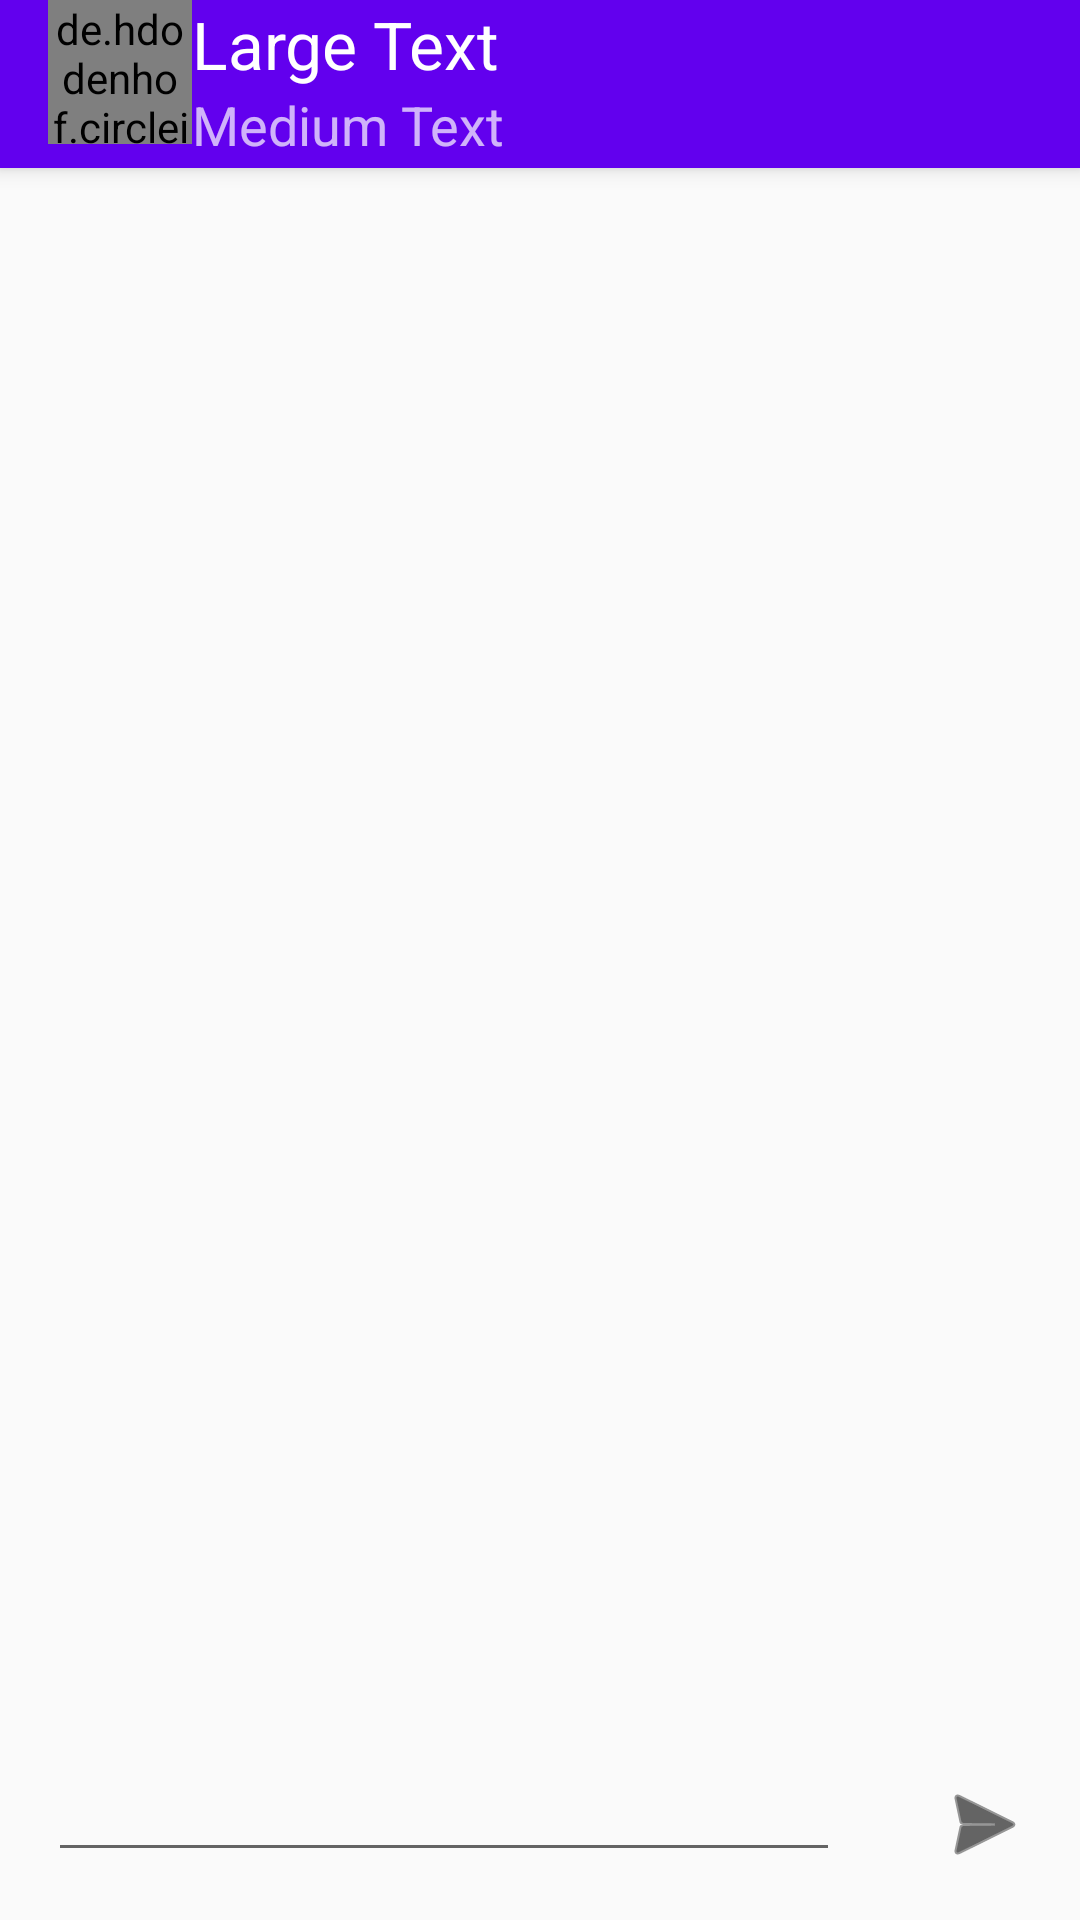

Point at icon controls on the screen. Image size 1080x1920, points as [x,y].
send: [985,1824]
